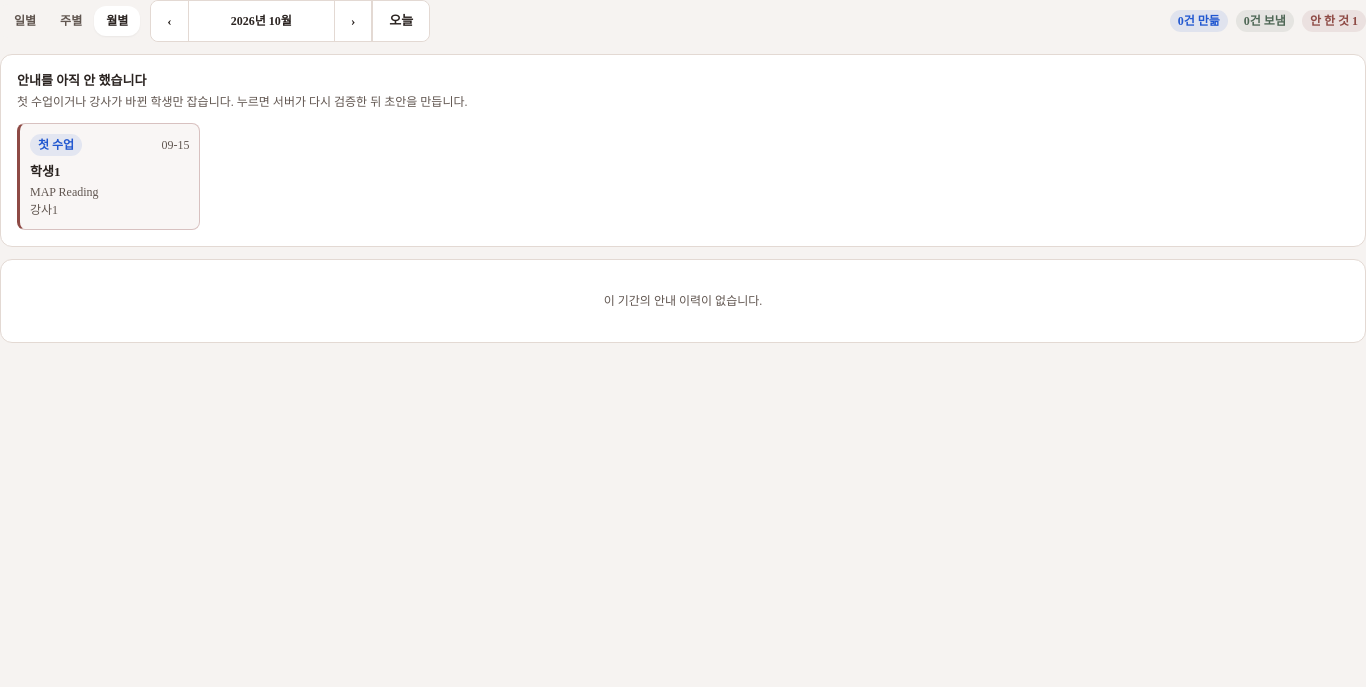
누락 카드가 투영 회차와 학생만 보내고 성공 즉시 GuideWriter를 연다
Click the button with aria-label "누락 안내 초안 만들기": (109, 176) x1=17 y1=122 x2=200 y2=230
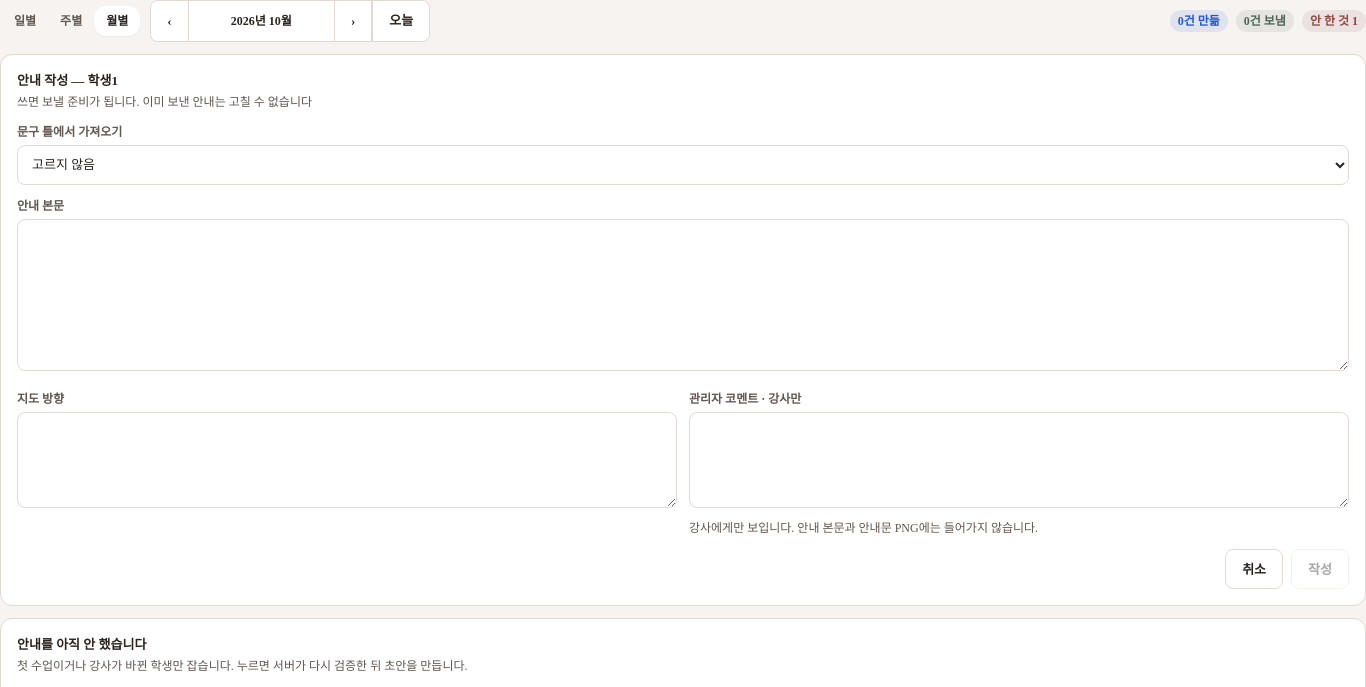
Expected: the heading "안내 작성 — 학생1" is shown, x1=17 y1=73 x2=118 y2=88
